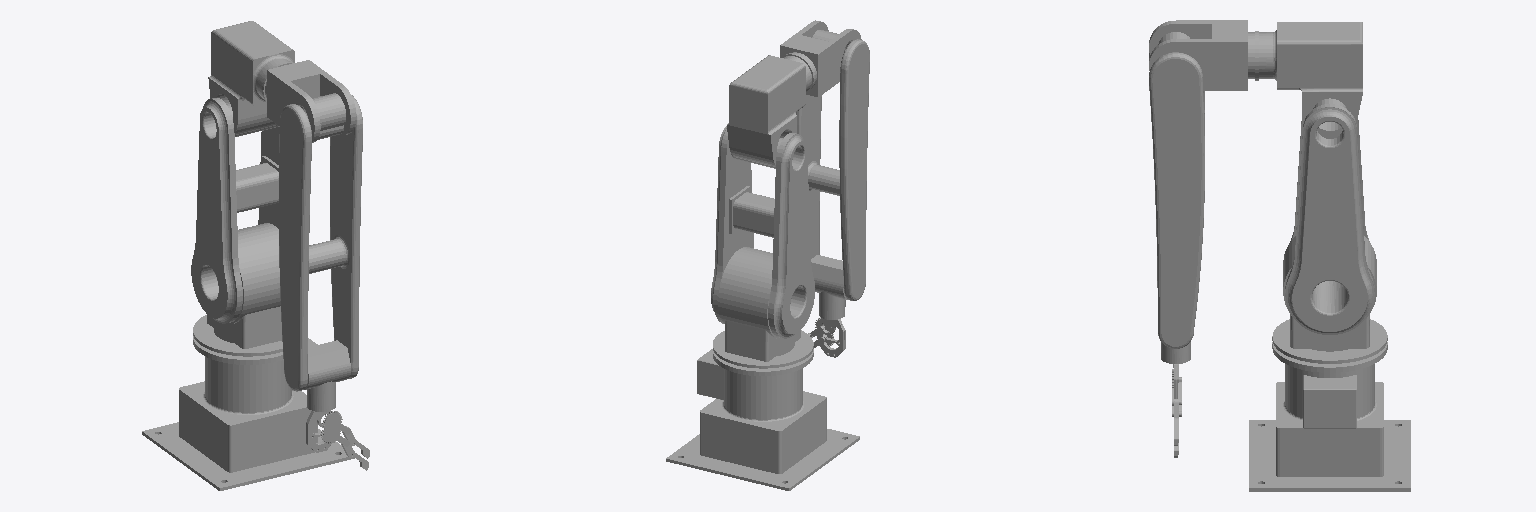
The robot description file, URDF, robot "gripperone":
<?xml version="1.0" ?>
<!-- =================================================================================== -->
<!-- |    This document was autogenerated by xacro from [local-path]/catkin_ws/src/gripperone_description/urdf/gripperone.xacro | -->
<!-- |    EDITING THIS FILE BY HAND IS NOT RECOMMENDED                                 | -->
<!-- =================================================================================== -->
<robot name="gripperone">
    <material name="silver">
        <color rgba="0.700 0.700 0.700 1.000" />
    </material>
    <transmission name="Rev1_tran">
        <type>transmission_interface/SimpleTransmission</type>
        <joint name="Rev1">
            <hardwareInterface>hardware_interface/EffortJointInterface</hardwareInterface>
        </joint>
        <actuator name="Rev1_actr">
            <hardwareInterface>hardware_interface/EffortJointInterface</hardwareInterface>
            <mechanicalReduction>1</mechanicalReduction>
        </actuator>
    </transmission>
    <transmission name="Rev2_tran">
        <type>transmission_interface/SimpleTransmission</type>
        <joint name="Rev2">
            <hardwareInterface>hardware_interface/EffortJointInterface</hardwareInterface>
        </joint>
        <actuator name="Rev2_actr">
            <hardwareInterface>hardware_interface/EffortJointInterface</hardwareInterface>
            <mechanicalReduction>1</mechanicalReduction>
        </actuator>
    </transmission>
    <transmission name="Rev3_tran">
        <type>transmission_interface/SimpleTransmission</type>
        <joint name="Rev3">
            <hardwareInterface>hardware_interface/EffortJointInterface</hardwareInterface>
        </joint>
        <actuator name="Rev3_actr">
            <hardwareInterface>hardware_interface/EffortJointInterface</hardwareInterface>
            <mechanicalReduction>1</mechanicalReduction>
        </actuator>
    </transmission>
    <transmission name="Rev4_tran">
        <type>transmission_interface/SimpleTransmission</type>
        <joint name="Rev4">
            <hardwareInterface>hardware_interface/EffortJointInterface</hardwareInterface>
        </joint>
        <actuator name="Rev4_actr">
            <hardwareInterface>hardware_interface/EffortJointInterface</hardwareInterface>
            <mechanicalReduction>1</mechanicalReduction>
        </actuator>
    </transmission>
    <transmission name="Rev5_tran">
        <type>transmission_interface/SimpleTransmission</type>
        <joint name="Rev5">
            <hardwareInterface>hardware_interface/EffortJointInterface</hardwareInterface>
        </joint>
        <actuator name="Rev5_actr">
            <hardwareInterface>hardware_interface/EffortJointInterface</hardwareInterface>
            <mechanicalReduction>1</mechanicalReduction>
        </actuator>
    </transmission>
    <transmission name="Rev6_tran">
        <type>transmission_interface/SimpleTransmission</type>
        <joint name="Rev6">
            <hardwareInterface>hardware_interface/EffortJointInterface</hardwareInterface>
        </joint>
        <actuator name="Rev6_actr">
            <hardwareInterface>hardware_interface/EffortJointInterface</hardwareInterface>
            <mechanicalReduction>1</mechanicalReduction>
        </actuator>
    </transmission>
    <transmission name="Rev7_tran">
        <type>transmission_interface/SimpleTransmission</type>
        <joint name="Rev7">
            <hardwareInterface>hardware_interface/EffortJointInterface</hardwareInterface>
        </joint>
        <actuator name="Rev7_actr">
            <hardwareInterface>hardware_interface/EffortJointInterface</hardwareInterface>
            <mechanicalReduction>1</mechanicalReduction>
        </actuator>
    </transmission>
    <gazebo>
        <plugin filename="libgazebo_ros_control.so" name="control" />
         <robotNamespace>/gripperone</robotNamespace>
    </gazebo>
    <gazebo reference="base_link">
        <material>Gazebo/Silver</material>
        <mu1>0.2</mu1>
        <mu2>0.2</mu2>
        <selfCollide>true</selfCollide>
        <gravity>true</gravity>
    </gazebo>
    <gazebo reference="link1_1">
        <material>Gazebo/Silver</material>
        <mu1>0.2</mu1>
        <mu2>0.2</mu2>
        <selfCollide>true</selfCollide>
    </gazebo>
    <gazebo reference="link2_1">
        <material>Gazebo/Silver</material>
        <mu1>0.2</mu1>
        <mu2>0.2</mu2>
        <selfCollide>true</selfCollide>
    </gazebo>
    <gazebo reference="link3_1">
        <material>Gazebo/Silver</material>
        <mu1>0.2</mu1>
        <mu2>0.2</mu2>
        <selfCollide>true</selfCollide>
    </gazebo>
    <gazebo reference="link4_1">
        <material>Gazebo/Silver</material>
        <mu1>0.2</mu1>
        <mu2>0.2</mu2>
        <selfCollide>true</selfCollide>
    </gazebo>
    <gazebo reference="link5_1">
        <material>Gazebo/Silver</material>
        <mu1>0.2</mu1>
        <mu2>0.2</mu2>
        <selfCollide>true</selfCollide>
    </gazebo>
    <gazebo reference="finger2_1">
        <material>Gazebo/Silver</material>
        <mu1>0.2</mu1>
        <mu2>0.2</mu2>
        <selfCollide>true</selfCollide>
    </gazebo>
    <gazebo reference="finger1_1">
        <material>Gazebo/Silver</material>
        <mu1>0.2</mu1>
        <mu2>0.2</mu2>
        <selfCollide>true</selfCollide>
    </gazebo>
    <link name ="world" />
    <joint name = "fixed" type="fixed">
    	<parent link="world"/>
    	<child link ="base_link"/>
    </joint>
    <link name="base_link">
        
<inertial>
            <origin rpy="0 0 0" xyz="0.013100742072346582 -9.696917427005168e-17 0.12843464984936392" />
            <mass value="141.36352349403447" />
            <inertia ixx="2.770677" ixy="0.0" ixz="-0.206615" iyy="3.022714" iyz="-0.0" izz="2.748975" />
        </inertial>

        <visual>
            <origin rpy="0 0 0" xyz="0 0 0" />
            <geometry>
                <mesh filename="package://gripperone_description/meshes/base_link.stl" scale="0.001 0.001 0.001" />
            </geometry>
            <material name="silver" />
        </visual>
        <collision>
            <origin rpy="0 0 0" xyz="0 0 0" />
            <geometry>
                <mesh filename="package://gripperone_description/meshes/base_link.stl" scale="0.001 0.001 0.001" />
            </geometry>
        </collision>
    </link>
    <link name="link1_1">
        
<inertial>
            <origin rpy="0 0 0" xyz="-8.427211298900635e-08 5.7703347655740766e-08 0.09307568139810135" />
            <mass value="113.94005755141684" />
            <inertia ixx="2.418285" ixy="0.0" ixz="0.0" iyy="2.208886" iyz="-0.0" izz="0.859496" />
        </inertial>

        <visual>
            <origin rpy="0 0 0" xyz="-0.0 -0.0 -0.37" />
            <geometry>
                <mesh filename="package://gripperone_description/meshes/link1_1.stl" scale="0.001 0.001 0.001" />
            </geometry>
            <material name="silver" />
        </visual>
        <collision>
            <origin rpy="0 0 0" xyz="-0.0 -0.0 -0.37" />
            <geometry>
                <mesh filename="package://gripperone_description/meshes/link1_1.stl" scale="0.001 0.001 0.001" />
            </geometry>
        </collision>
    </link>
    <link name="link2_1">
        
<inertial>
            <origin rpy="0 0 0" xyz="2.848833931279658e-09 7.523744194818709e-09 0.19455703848130457" />
            <mass value="96.27136210018317" />
            <inertia ixx="3.396419" ixy="0.0" ixz="0.0" iyy="4.009316" iyz="-0.0" izz="1.077023" />
        </inertial>

        <visual>
            <origin rpy="0 0 0" xyz="-0.0 -0.0 -0.586" />
            <geometry>
                <mesh filename="package://gripperone_description/meshes/link2_1.stl" scale="0.001 0.001 0.001" />
            </geometry>
            <material name="silver" />
        </visual>
        <collision>
            <origin rpy="0 0 0" xyz="-0.0 -0.0 -0.586" />
            <geometry>
                <mesh filename="package://gripperone_description/meshes/link2_1.stl" scale="0.001 0.001 0.001" />
            </geometry>
        </collision>
    </link>
    <link name="link3_1">
        
<inertial>
            <origin rpy="0 0 0" xyz="1.6361981853577748e-11 -0.12111140707026075 0.11882892529648226" />
            <mass value="89.40771046157806" />
            <inertia ixx="2.454822" ixy="-0.0" ixz="0.0" iyy="0.570231" iyz="0.274684" izz="2.203132" />
        </inertial>

        <visual>
            <origin rpy="0 0 0" xyz="-0.0 -0.0 -1.086" />
            <geometry>
                <mesh filename="package://gripperone_description/meshes/link3_1.stl" scale="0.001 0.001 0.001" />
            </geometry>
            <material name="silver" />
        </visual>
        <collision>
            <origin rpy="0 0 0" xyz="-0.0 -0.0 -1.086" />
            <geometry>
                <mesh filename="package://gripperone_description/meshes/link3_1.stl" scale="0.001 0.001 0.001" />
            </geometry>
        </collision>
    </link>
    <link name="link4_1">
        
<inertial>
            <origin rpy="0 0 0" xyz="5.732430246041531e-09 0.006084952212643602 -0.350432800798794" />
            <mass value="67.90969466672291" />
            <inertia ixx="4.721933" ixy="0.0" ixz="0.0" iyy="5.052297" iyz="0.010769" izz="0.494355" />
        </inertial>

        <visual>
            <origin rpy="0 0 0" xyz="-0.0 0.427705 -1.229651" />
            <geometry>
                <mesh filename="package://gripperone_description/meshes/link4_1.stl" scale="0.001 0.001 0.001" />
            </geometry>
            <material name="silver" />
        </visual>
        <collision>
            <origin rpy="0 0 0" xyz="-0.0 0.427705 -1.229651" />
            <geometry>
                <mesh filename="package://gripperone_description/meshes/link4_1.stl" scale="0.001 0.001 0.001" />
            </geometry>
        </collision>
    </link>
    <link name="link5_1">
        
<inertial>
            <origin rpy="0 0 0" xyz="-0.00019749374404857904 0.00011331788739532556 -0.037173182060112164" />
            <mass value="9.640360366038745" />
            <inertia ixx="0.052864" ixy="3e-06" ixz="-0.000271" iyy="0.057534" iyz="0.000179" izz="0.017456" />
        </inertial>

        <visual>
            <origin rpy="0 0 0" xyz="-0.0 0.427705 -0.459651" />
            <geometry>
                <mesh filename="package://gripperone_description/meshes/link5_1.stl" scale="0.001 0.001 0.001" />
            </geometry>
            <material name="silver" />
        </visual>
        <collision>
            <origin rpy="0 0 0" xyz="-0.0 0.427705 -0.459651" />
            <geometry>
                <mesh filename="package://gripperone_description/meshes/link5_1.stl" scale="0.001 0.001 0.001" />
            </geometry>
        </collision>
    </link>
    <link name="finger2_1">
        
<inertial>
            <origin rpy="0 0 0" xyz="-0.04829429334826497 0.003040511211788388 -0.05130413342970386" />
            <mass value="0.4623368422198283" />
            <inertia ixx="0.001069" ixy="6.5e-05" ixz="-0.000864" iyy="0.001847" iyz="7.3e-05" izz="0.000811" />
        </inertial>

        <visual>
            <origin rpy="0 0 0" xyz="0.03137 0.43251 -0.249342" />
            <geometry>
                <mesh filename="package://gripperone_description/meshes/finger2_1.stl" scale="0.001 0.001 0.001" />
            </geometry>
            <material name="silver" />
        </visual>
        <collision>
            <origin rpy="0 0 0" xyz="0.03137 0.43251 -0.249342" />
            <geometry>
                <mesh filename="package://gripperone_description/meshes/finger2_1.stl" scale="0.001 0.001 0.001" />
            </geometry>
        </collision>
    </link>
    <link name="finger1_1">
        
<inertial>
            <origin rpy="0 0 0" xyz="0.04744712111684282 0.003574152417180565 -0.050098979095702684" />
            <mass value="0.48552638735874726" />
            <inertia ixx="0.001074" ixy="-5.1e-05" ixz="0.000898" iyy="0.001899" iyz="5.4e-05" izz="0.000871" />
        </inertial>

        <visual>
            <origin rpy="0 0 0" xyz="-0.02803 0.43251 -0.249187" />
            <geometry>
                <mesh filename="package://gripperone_description/meshes/finger1_1.stl" scale="0.001 0.001 0.001" />
            </geometry>
            <material name="silver" />
        </visual>
        <collision>
            <origin rpy="0 0 0" xyz="-0.02803 0.43251 -0.249187" />
            <geometry>
                <mesh filename="package://gripperone_description/meshes/finger1_1.stl" scale="0.001 0.001 0.001" />
            </geometry>
        </collision>
    </link>
    <joint name="Rev1" type="continuous">
        <origin rpy="0 0 0" xyz="0.0 0.0 0.37" />
        <parent link="base_link" />
        <child link="link1_1" />
        <axis xyz="0.0 0.0 -1.0" />
    </joint>
    <joint name="Rev2" type="continuous">
        <origin rpy="0 0 0" xyz="0.0 0.0 0.216" />
        <parent link="link1_1" />
        <child link="link2_1" />
        <axis xyz="1.0 0.0 -0.0" />
    </joint>
    <joint name="Rev3" type="continuous">
        <origin rpy="0 0 0" xyz="0.0 0.0 0.5" />
        <parent link="link2_1" />
        <child link="link3_1" />
        <axis xyz="-1.0 0.0 0.0" />
    </joint>
    <joint name="Rev4" type="continuous">
        <origin rpy="0 0 0" xyz="0.0 -0.427705 0.143651" />
        <parent link="link3_1" />
        <child link="link4_1" />
        <axis xyz="1.0 0.0 -0.0" />
    </joint>
    <joint name="Rev5" type="continuous">
        <origin rpy="0 0 0" xyz="0.0 0.0 -0.77" />
        <parent link="link4_1" />
        <child link="link5_1" />
        <axis xyz="-1.0 -0.0 0.0" />
    </joint>
    <joint name="Rev6" type="continuous">
        <origin rpy="0 0 0" xyz="-0.03137 -0.004805 -0.210309" />
        <parent link="link5_1" />
        <child link="finger2_1" />
        <axis xyz="-0.0 -1.0 -0.0" />
    </joint>
    <joint name="Rev7" type="continuous">
        <origin rpy="0 0 0" xyz="0.02803 -0.004805 -0.210464" />
        <parent link="link5_1" />
        <child link="finger1_1" />
        <axis xyz="-0.0 -1.0 -0.0" />
    </joint>
    <transmission name="trans_Rev1">
        <type>transmission_interface/SimpleTransmission</type>
        <joint name="Rev1">
            <hardwareInterface>hardware_interface/EffortJointInterface</hardwareInterface>
        </joint>
        <actuator name="Rev1_motor">
            <hardwareInterface>hardware_interface/EffortJointInterface</hardwareInterface>
            <mechanicalReduction>1</mechanicalReduction>
        </actuator>
    </transmission>
    <transmission name="trans_Rev2">
        <type>transmission_interface/SimpleTransmission</type>
        <joint name="Rev2">
            <hardwareInterface>hardware_interface/EffortJointInterface</hardwareInterface>
        </joint>
        <actuator name="Rev2_motor">
            <hardwareInterface>hardware_interface/EffortJointInterface</hardwareInterface>
            <mechanicalReduction>1</mechanicalReduction>
        </actuator>
    </transmission>
    <transmission name="trans_Rev3">
        <type>transmission_interface/SimpleTransmission</type>
        <joint name="Rev3">
            <hardwareInterface>hardware_interface/EffortJointInterface</hardwareInterface>
        </joint>
        <actuator name="Rev3_motor">
            <hardwareInterface>hardware_interface/EffortJointInterface</hardwareInterface>
            <mechanicalReduction>1</mechanicalReduction>
        </actuator>
    </transmission>
    <transmission name="trans_Rev4">
        <type>transmission_interface/SimpleTransmission</type>
        <joint name="Rev4">
            <hardwareInterface>hardware_interface/EffortJointInterface</hardwareInterface>
        </joint>
        <actuator name="Rev4_motor">
            <hardwareInterface>hardware_interface/EffortJointInterface</hardwareInterface>
            <mechanicalReduction>1</mechanicalReduction>
        </actuator>
    </transmission>
    <transmission name="trans_Rev5">
        <type>transmission_interface/SimpleTransmission</type>
        <joint name="Rev5">
            <hardwareInterface>hardware_interface/EffortJointInterface</hardwareInterface>
        </joint>
        <actuator name="Rev5_motor">
            <hardwareInterface>hardware_interface/EffortJointInterface</hardwareInterface>
            <mechanicalReduction>1</mechanicalReduction>
        </actuator>
    </transmission>
    <transmission name="trans_Rev6">
        <type>transmission_interface/SimpleTransmission</type>
        <joint name="Rev6">
            <hardwareInterface>hardware_interface/EffortJointInterface</hardwareInterface>
        </joint>
        <actuator name="Rev6_motor">
            <hardwareInterface>hardware_interface/EffortJointInterface</hardwareInterface>
            <mechanicalReduction>1</mechanicalReduction>
        </actuator>
    </transmission>
    <transmission name="trans_Rev7">
        <type>transmission_interface/SimpleTransmission</type>
        <joint name="Rev7">
            <hardwareInterface>hardware_interface/EffortJointInterface</hardwareInterface>
        </joint>
        <actuator name="Rev7_motor">
            <hardwareInterface>hardware_interface/EffortJointInterface</hardwareInterface>
            <mechanicalReduction>1</mechanicalReduction>
        </actuator>
    </transmission>
  <gazebo>
    <plugin name="gazebo_ros_control" filename="libgazebo_ros_control.so">
      <robotNamespace>/gripperone</robotNamespace>
      <robotSimType>gazebo_ros_control/DefaultRobotHWSim</robotSimType>
    </plugin>
  </gazebo>
  
</robot>

--- Facts derived from the render (not from the file) ---
3 views of the same robot in one strip: view 1: azimuth 30°, elevation 25°; view 2: azimuth 150°, elevation 25°; view 3: azimuth 270°, elevation 25° (orthographic).
Robot: gripperone — 9 links, 8 joints (7 continuous, 1 fixed); root link world; default pose: all joints at 0.
Visible links, largest first — view 1: base_link, link4_1, link2_1, link3_1, link1_1, link5_1, finger1_1, finger2_1; view 2: base_link, link2_1, link3_1, link4_1, link1_1, link5_1; view 3: base_link, link2_1, link4_1, link3_1, link1_1, link5_1.
Link boxes in pixels (left/top/right/bottom): base_link: left=142, top=315, right=354, bottom=490; link4_1: left=279, top=95, right=362, bottom=391; link2_1: left=191, top=98, right=279, bottom=323; link3_1: left=208, top=21, right=356, bottom=142; link1_1: left=193, top=223, right=283, bottom=364; link5_1: left=304, top=340, right=350, bottom=452; finger1_1: left=322, top=411, right=369, bottom=458; finger2_1: left=321, top=424, right=368, bottom=470; base_link: left=666, top=330, right=859, bottom=490; link2_1: left=711, top=126, right=814, bottom=338; link3_1: left=727, top=20, right=861, bottom=166; link4_1: left=796, top=39, right=869, bottom=300; link1_1: left=713, top=247, right=813, bottom=375; link5_1: left=811, top=255, right=847, bottom=357; base_link: left=1249, top=319, right=1410, bottom=491; link2_1: left=1285, top=98, right=1374, bottom=334; link4_1: left=1149, top=52, right=1204, bottom=348; link3_1: left=1149, top=20, right=1362, bottom=138; link1_1: left=1272, top=236, right=1387, bottom=372; link5_1: left=1161, top=342, right=1190, bottom=398.
Size in the robot's own frame: 0.45 by 0.7277 by 1.3 metres.
8 mesh visuals loaded from 8 distinct referenced files (8 binary STL).